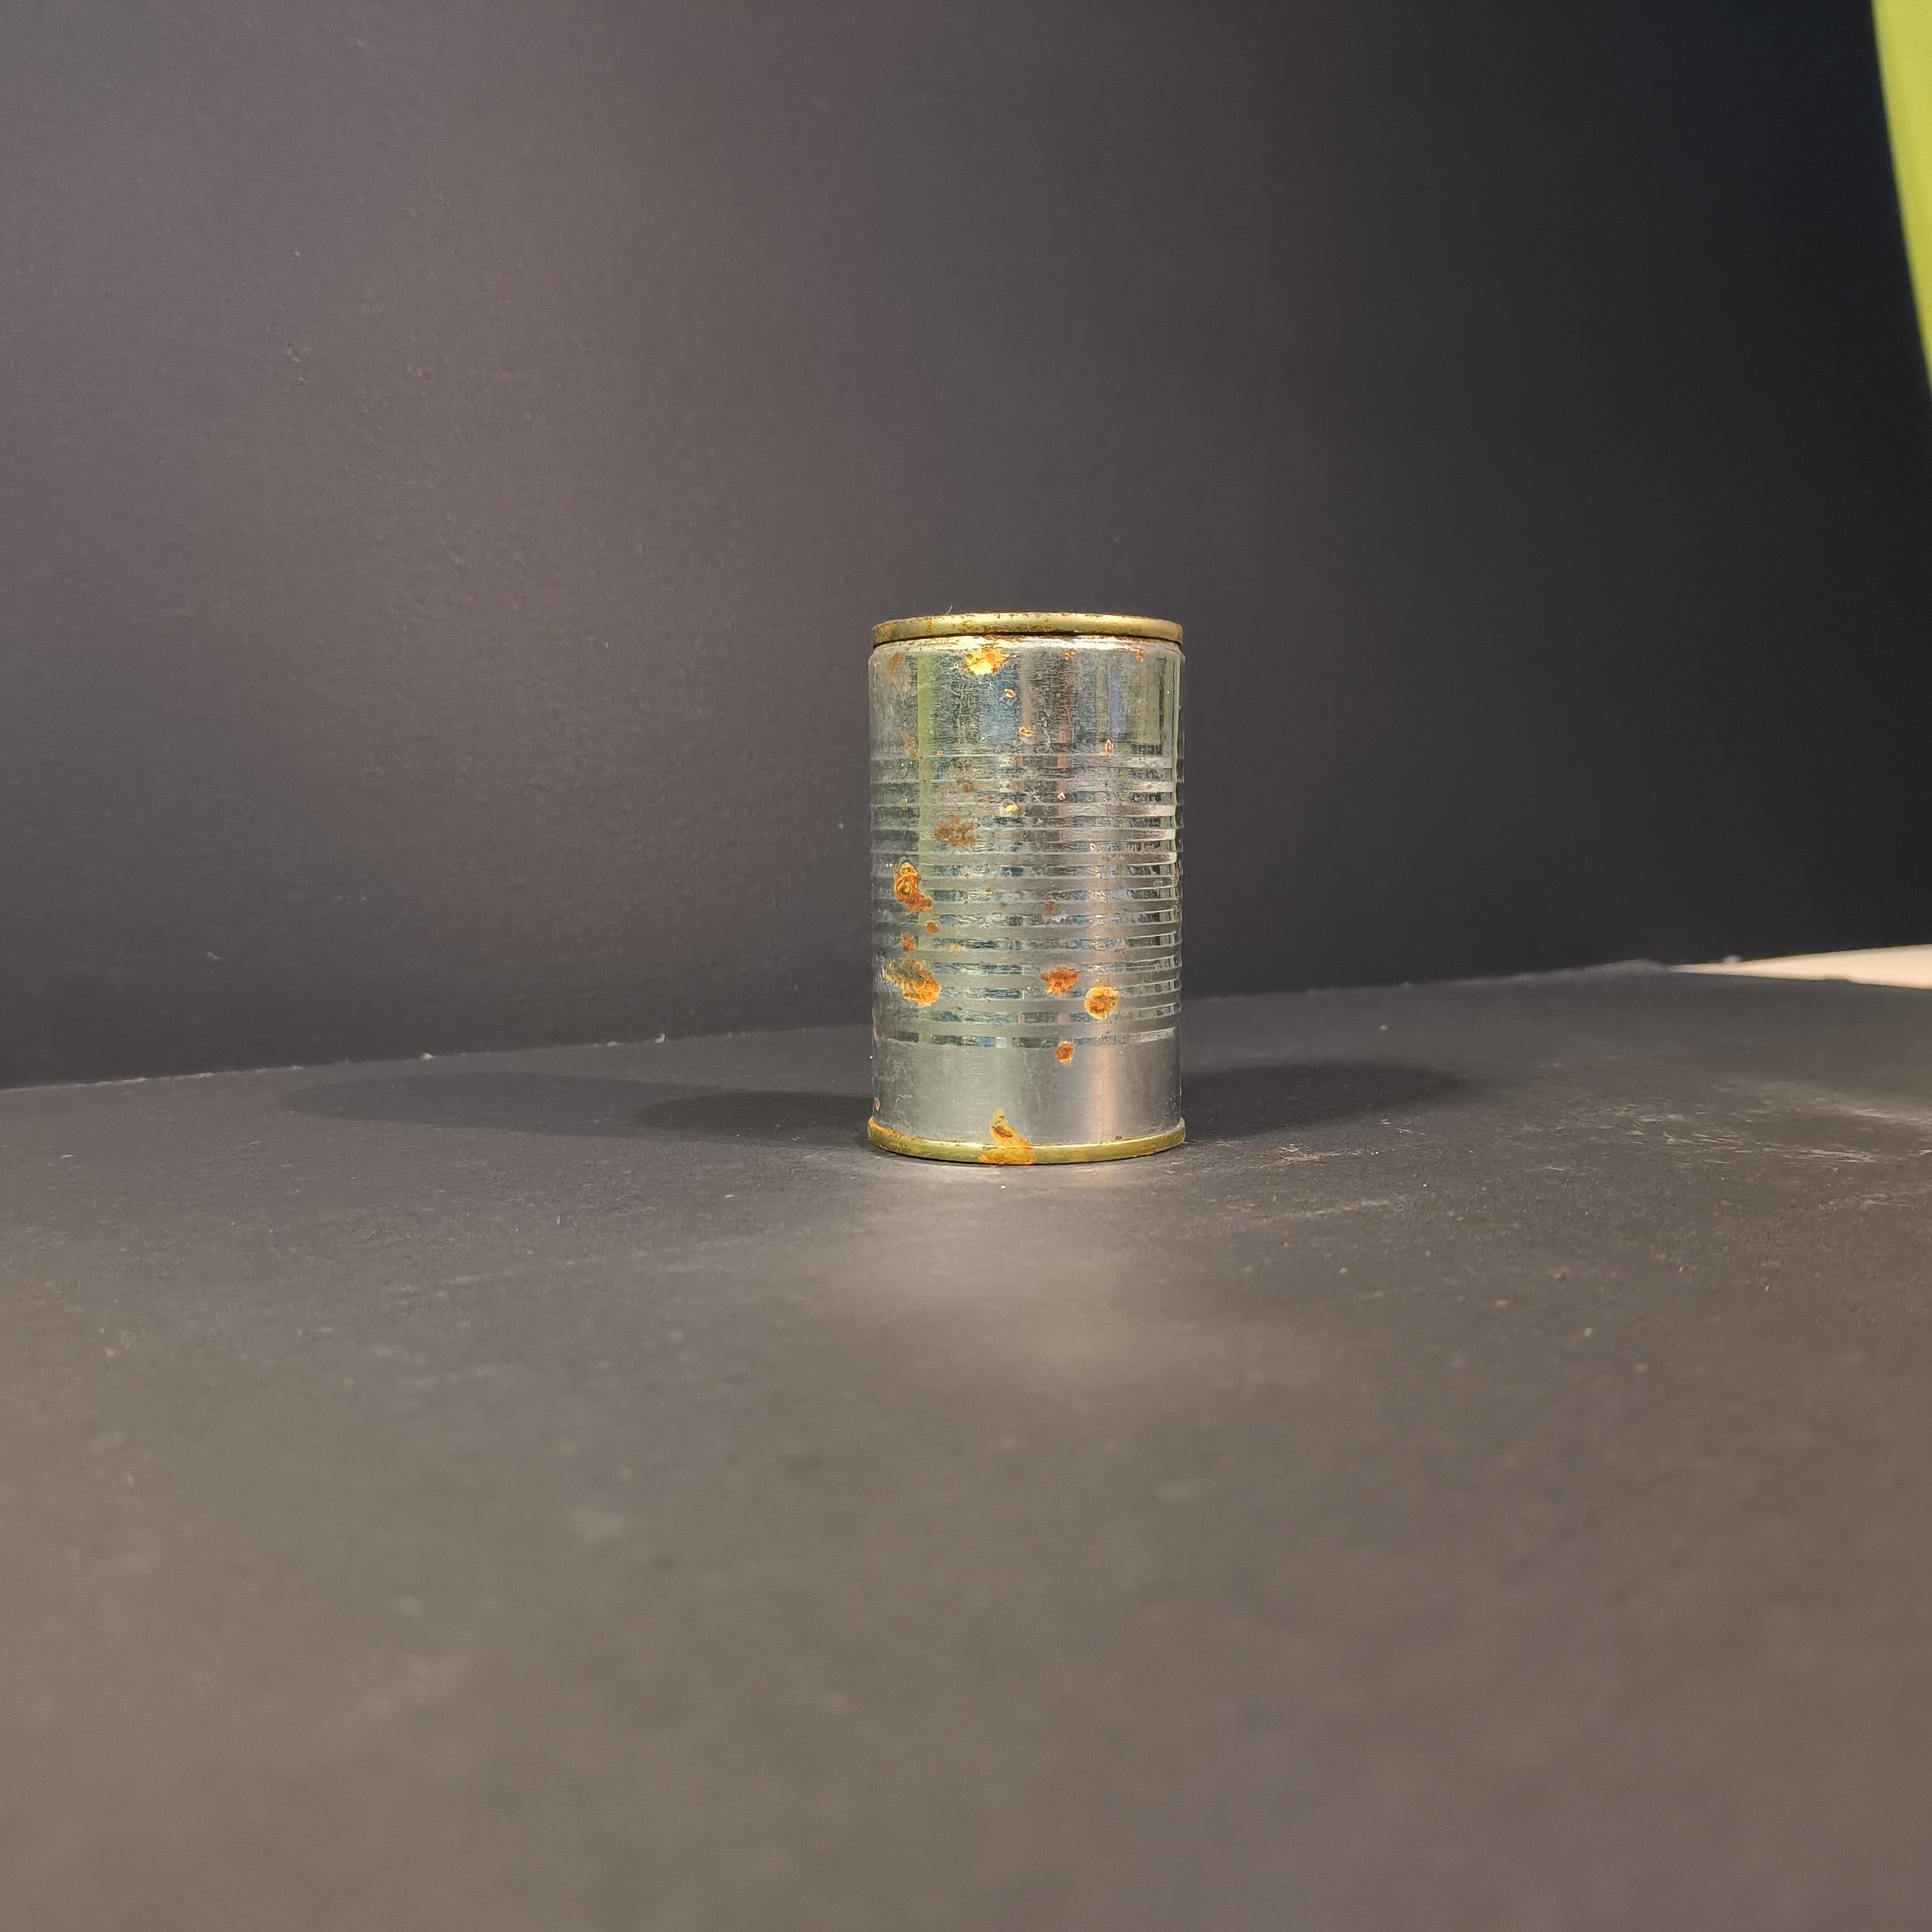Rusted: (842, 582, 1235, 1185)
